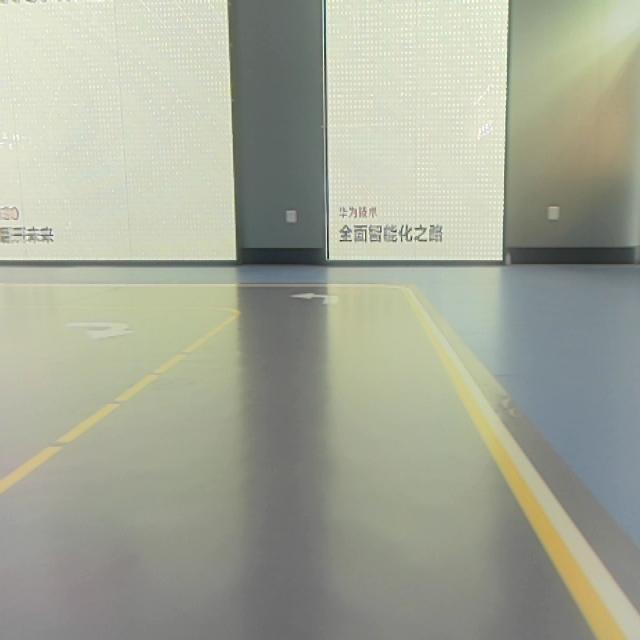left_lane: (1, 313, 231, 493)
right_lane: (412, 305, 628, 640)
